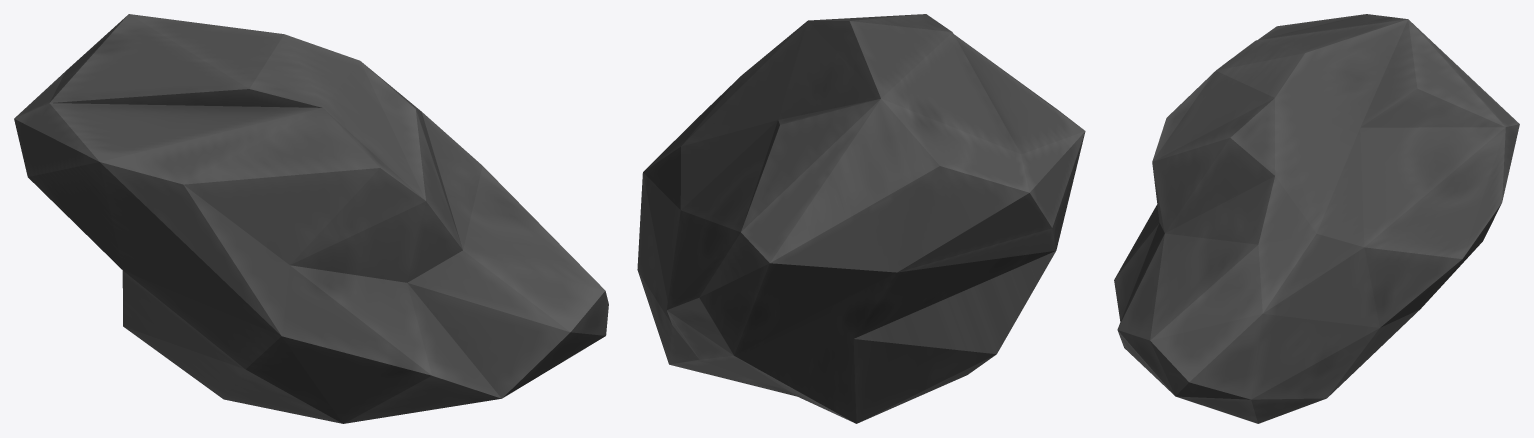
The model's file is rock_4.obj.
3 views of the same model, side by side, from view 1: azimuth 30°, elevation 25°; view 2: azimuth 150°, elevation 25°; view 3: azimuth 270°, elevation 25° (orthographic). The views are drawn at different scales.
Visible parts, largest first — view 1: Asteroids_Mesh.004; view 2: Asteroids_Mesh.004; view 3: Asteroids_Mesh.004.
Part boxes in pixels (<box>): Asteroids_Mesh.004: <box>14,14,608,423</box>; Asteroids_Mesh.004: <box>637,14,1085,423</box>; Asteroids_Mesh.004: <box>1114,14,1519,423</box>.
Bounding box in the file's own units: 1.37 × 1.04 × 1.24.
